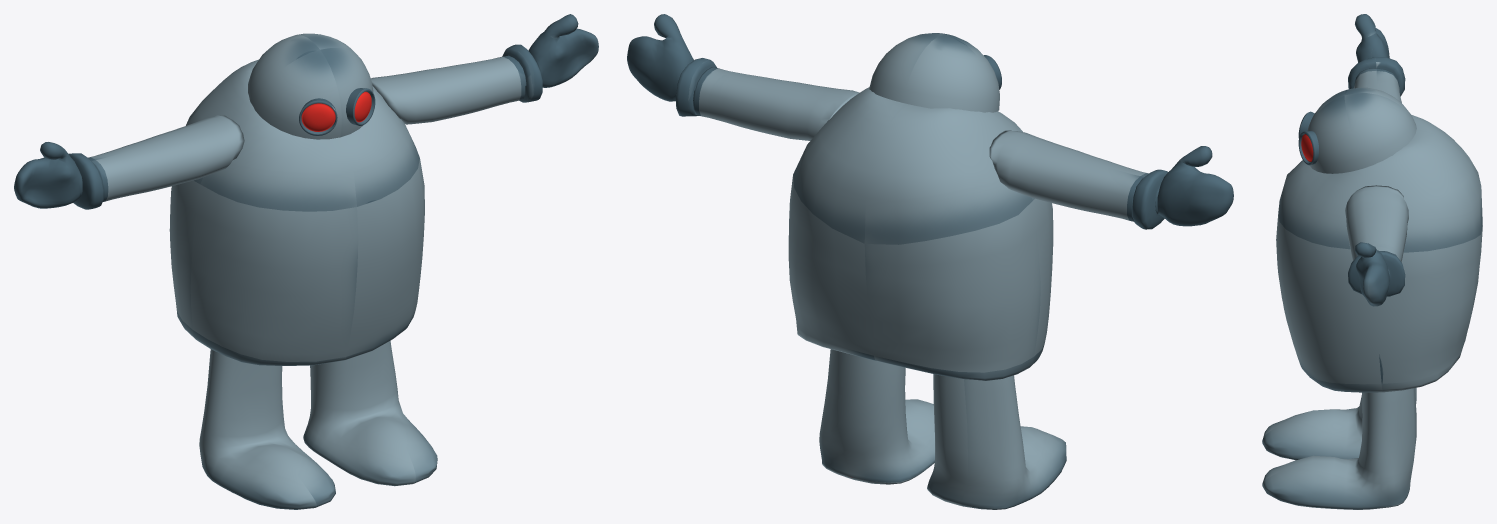
File: Idle.fbx
3 renders of one model, left to right at view 1: azimuth 30°, elevation 25°; view 2: azimuth 150°, elevation 25°; view 3: azimuth 270°, elevation 25°, orthographic. The views are drawn at different scales.
Parts seen in each view (by area): view 1: Boss; view 2: Boss; view 3: Boss.
Part boxes in pixels (x1,y1,x2,y2): Boss: (14,14,598,509); Boss: (627,14,1233,509); Boss: (1262,14,1482,509).
Bounding box in the file's own units: 816 × 566 × 299.
